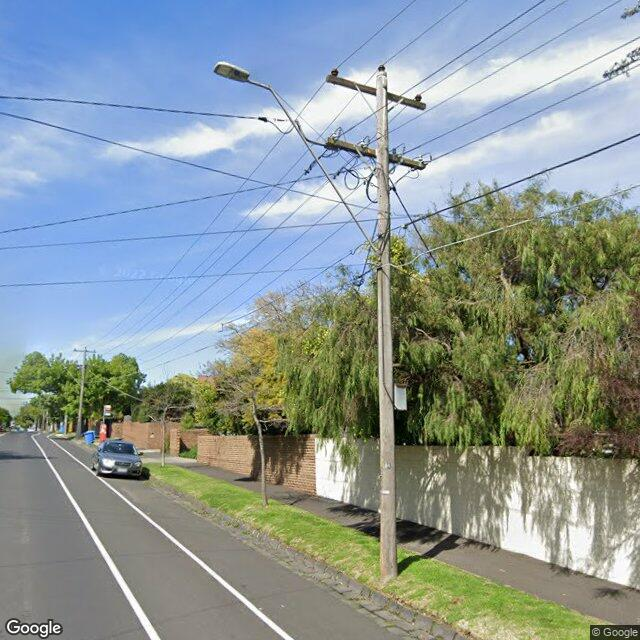HV-transmission: (331, 65, 422, 102), (74, 347, 95, 352)
crossarm: (326, 74, 426, 110), (323, 137, 426, 170), (73, 350, 96, 352)
streetlight: (213, 61, 380, 254)
timber-pole: (376, 71, 398, 580), (76, 349, 86, 440)
